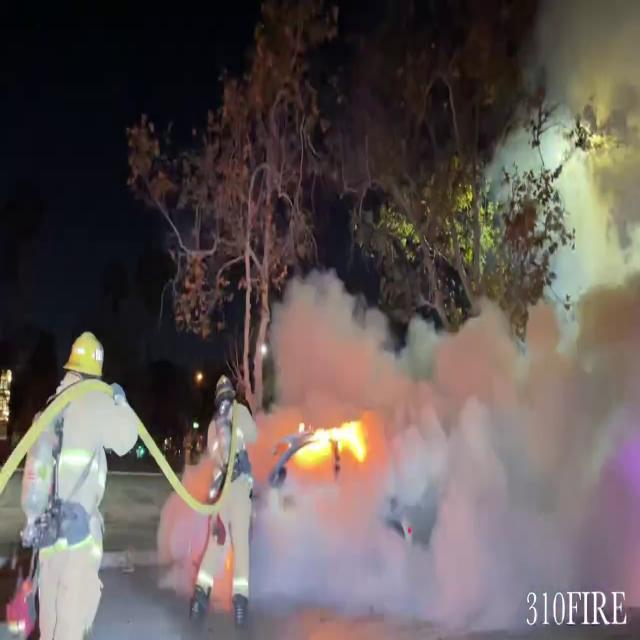Fire: (284, 400, 372, 480)
Smoke: (271, 260, 640, 626)
